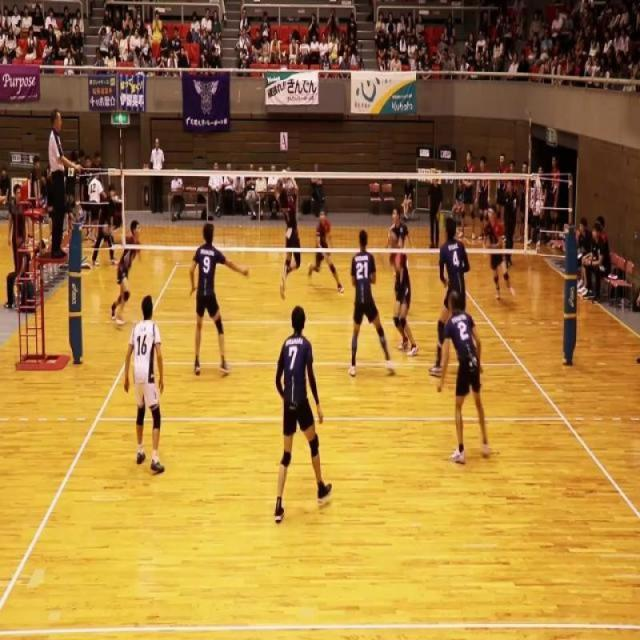volleyball: (280, 169, 290, 184)
